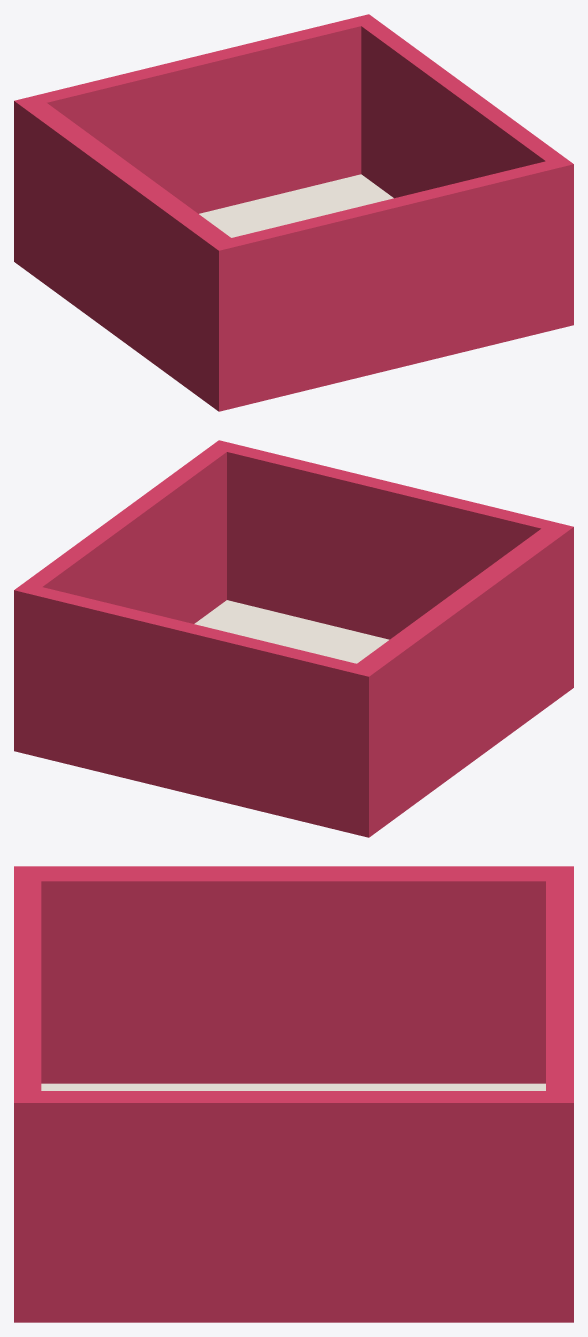
The picture shows the model from 3 angles, top to bottom: view 1: azimuth 30°, elevation 25°; view 2: azimuth 150°, elevation 25°; view 3: azimuth 270°, elevation 25°; orthographic projection. The views are drawn at different scales.
Parts seen in each view (by area): view 1: Cube; view 2: Cube; view 3: Cube.
Boxes of the visible parts, x1,y1,x2,y2 form: Cube: [14, 14, 573, 411]; Cube: [14, 440, 573, 837]; Cube: [14, 866, 573, 1322].
Bounding box in the file's own units: 85.1 × 36.87 × 85.1.
